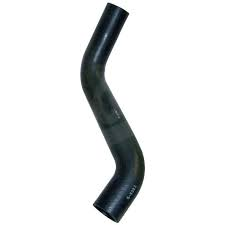radiator_hose: (80, 3, 146, 222)
